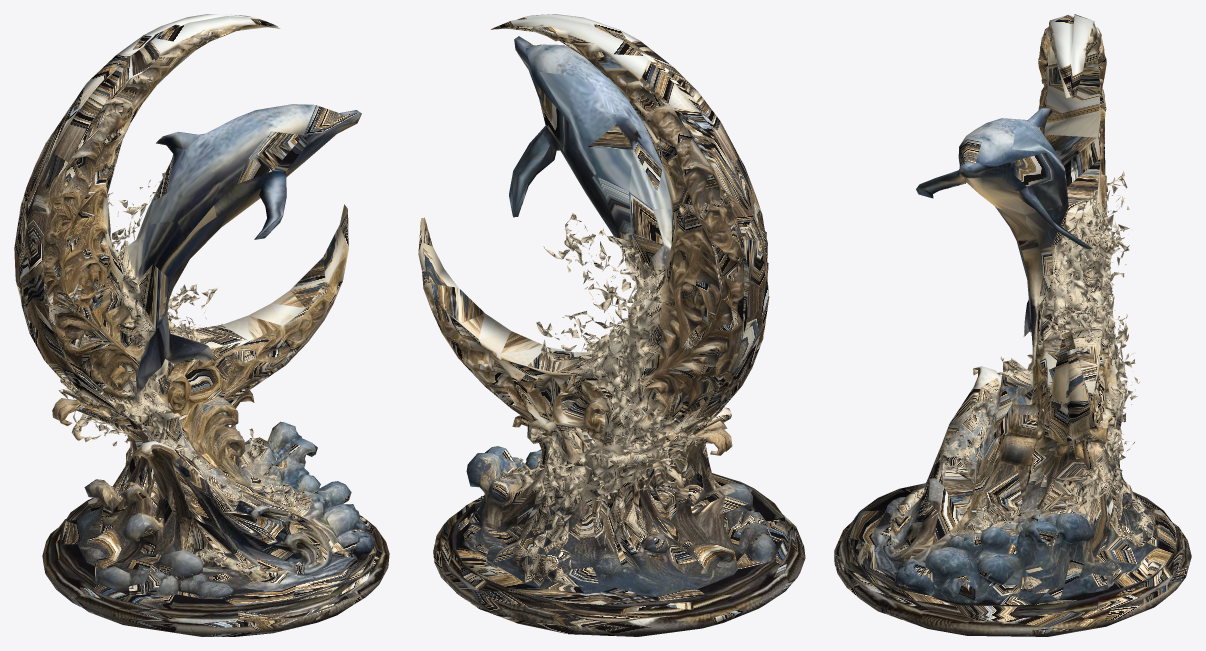
File: Golden_Crescent_Dolph.glb
3 views of the same model, side by side, from view 1: azimuth 30°, elevation 25°; view 2: azimuth 150°, elevation 25°; view 3: azimuth 270°, elevation 25° (orthographic). The views are drawn at different scales.
Visible parts, largest first — view 1: Golden_Crescent_Dolph; view 2: Golden_Crescent_Dolph; view 3: Golden_Crescent_Dolph.
Part boxes in pixels (x1,y1,x2,y2): Golden_Crescent_Dolph: (14, 14, 389, 636); Golden_Crescent_Dolph: (418, 14, 805, 636); Golden_Crescent_Dolph: (834, 14, 1191, 636).
Bounding box in the file's own units: 1.23 × 1.9 × 1.13.
Materials: 1 (1 with a texture image).
